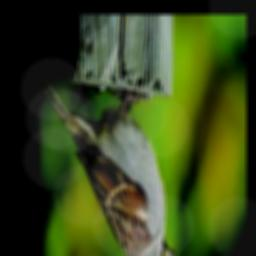Sparrow: (43, 82, 177, 256)
